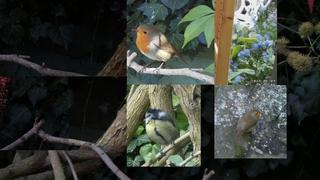blue tit: (143, 109, 179, 157)
robin: (131, 24, 190, 77), (234, 109, 263, 140)
